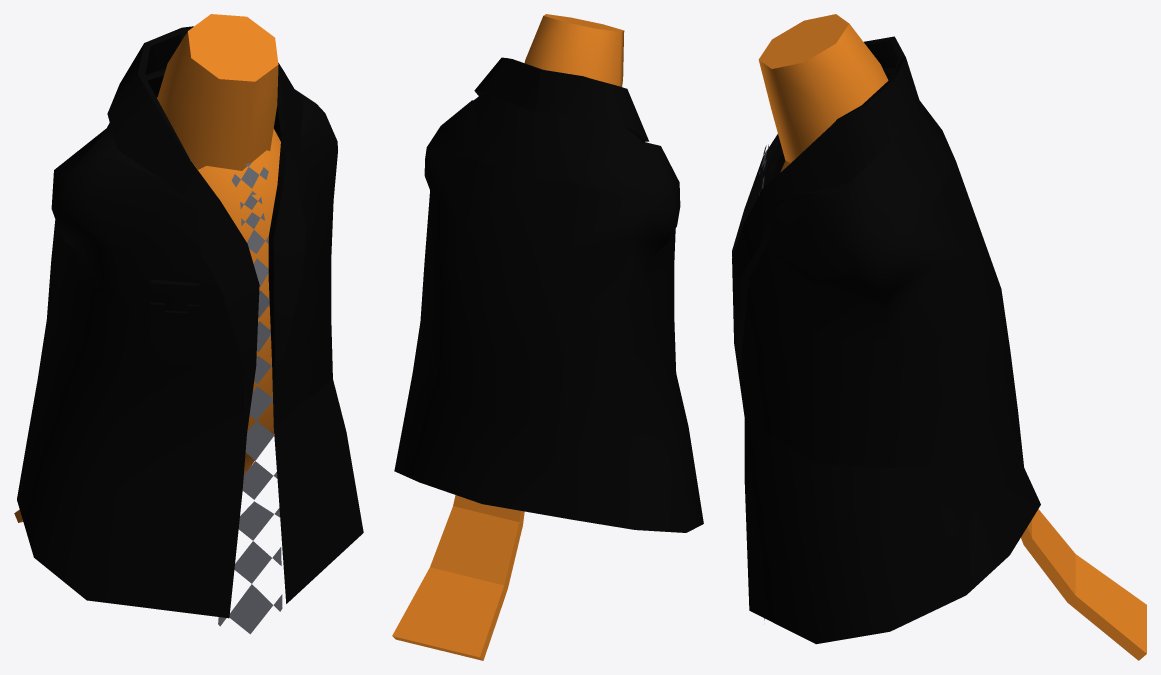
Rendered from Char_CR_Body.FBX.
3 renders of one model, left to right at view 1: azimuth 30°, elevation 25°; view 2: azimuth 150°, elevation 25°; view 3: azimuth 270°, elevation 25°, orthographic. The views are drawn at different scales.
Visible parts, largest first — view 1: Box002; view 2: Box002; view 3: Box002.
Part boxes in pixels (left/top/right/bottom): Box002: left=14, top=14, right=363, bottom=634; Box002: left=392, top=14, right=703, bottom=660; Box002: left=732, top=14, right=1146, bottom=660.
Size of the model in its own units: 48.95 by 93 by 55.44.
